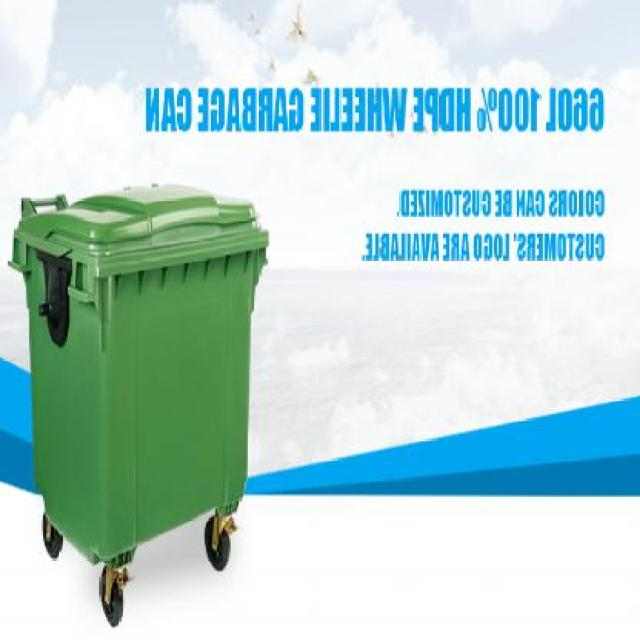garbage container: (1, 176, 276, 639)
